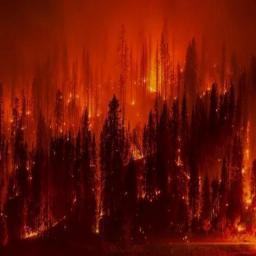Heavy smoke: (0, 0, 255, 255)
Large fire: (0, 0, 255, 255)
